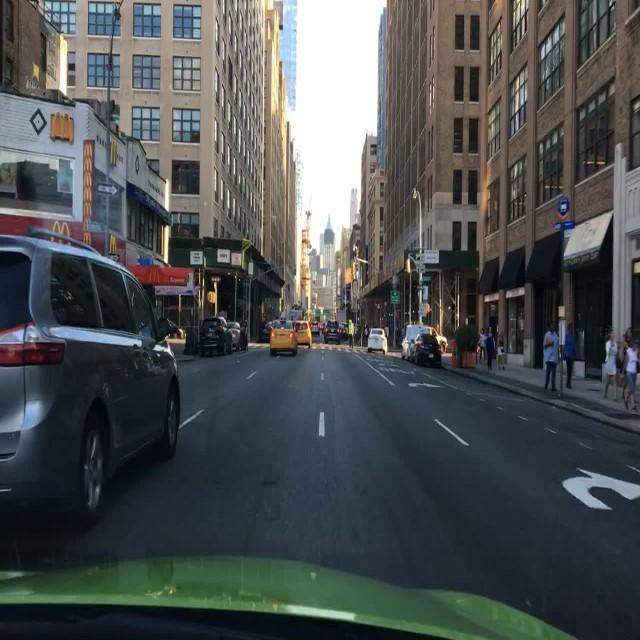normal: (4, 230, 186, 534), (186, 319, 233, 358), (404, 327, 443, 366), (268, 320, 309, 357), (365, 330, 386, 352)
